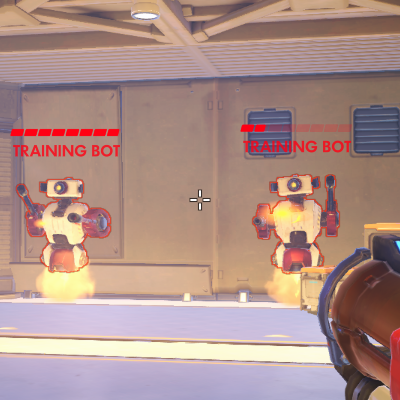hpbar: (10, 128, 120, 137), (240, 124, 353, 132)
